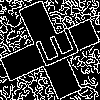E: (25, 25, 81, 74)
